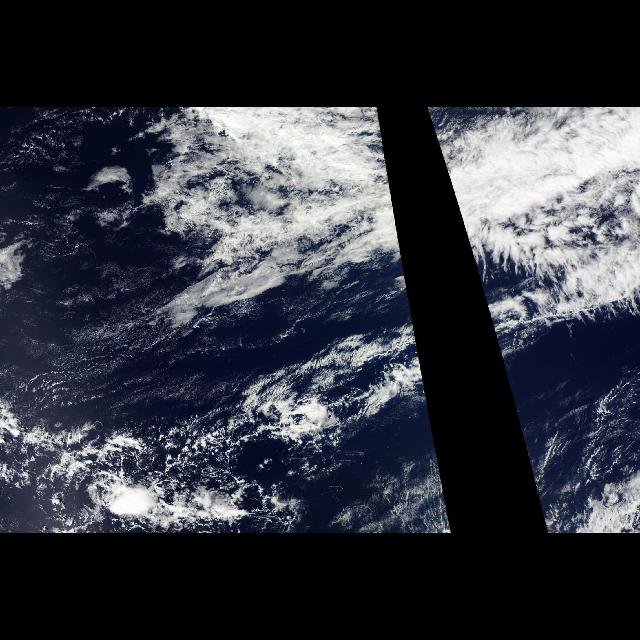Sugar: (10, 286, 224, 416)
